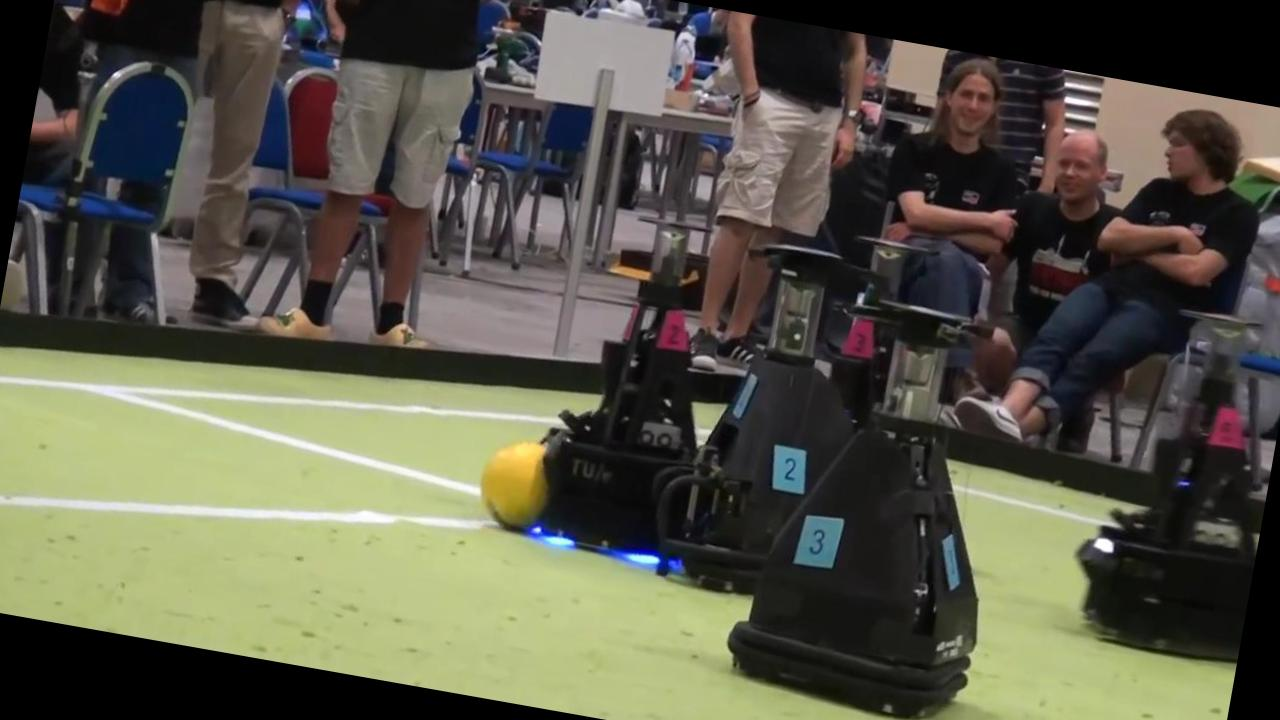ball: (480, 441, 549, 529)
robot: (728, 299, 978, 715), (656, 244, 861, 592), (1077, 312, 1257, 659), (538, 221, 696, 550)
